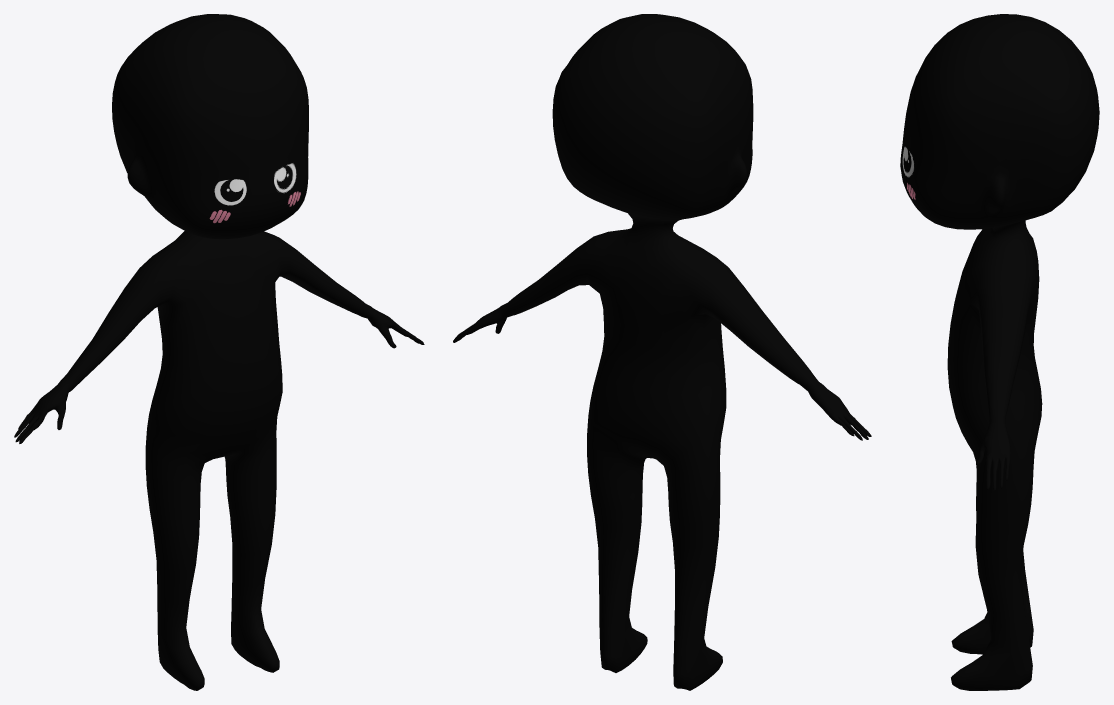
The picture shows the model from 3 angles, left to right: view 1: azimuth 30°, elevation 25°; view 2: azimuth 150°, elevation 25°; view 3: azimuth 270°, elevation 25°; orthographic projection.
Visible parts, largest first — view 1: BODY_0; view 2: BODY_0; view 3: BODY_0.
Boxes of the visible parts, bbox=[...] form: BODY_0: bbox=[14, 14, 424, 690]; BODY_0: bbox=[453, 14, 871, 690]; BODY_0: bbox=[900, 14, 1099, 690].
Bounding box in the file's own units: 14.06 × 21.28 × 5.93.
1 material, 1 textured.
